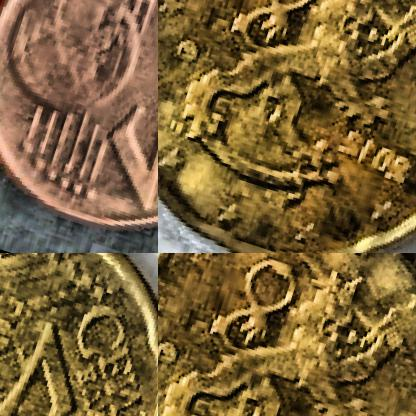coin: (158, 0, 415, 252), (158, 253, 415, 415), (0, 0, 157, 252), (0, 253, 157, 415)
